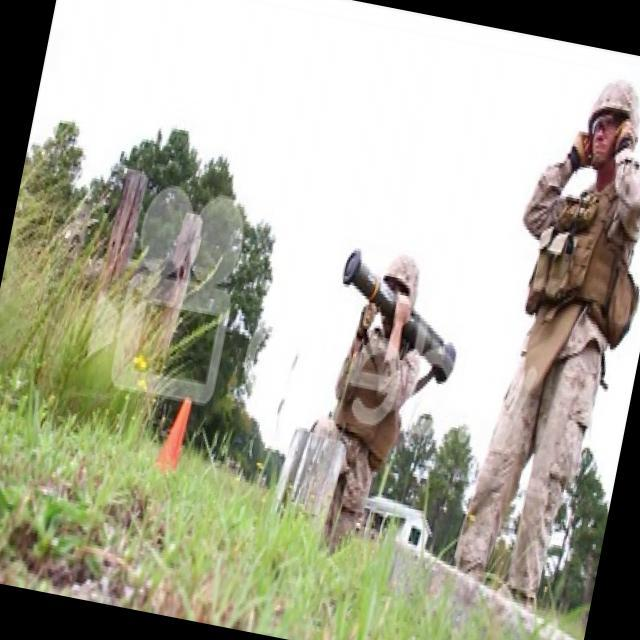rocket: (325, 246, 480, 390)
